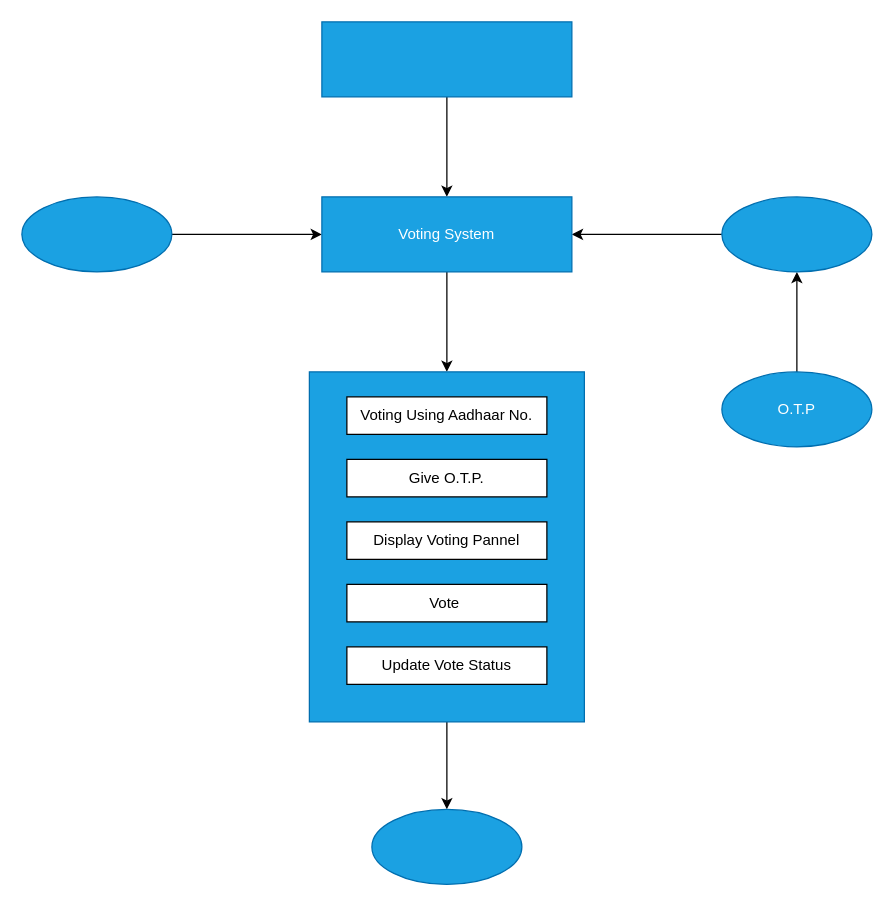
The diagram is 894 pixels wide and 906 high, and some of its shapes have lost their labels. The centre of each missing label's shape, as x and y in pixels:
Aadhaar No.: (796,234)
Admin / Voter: (446,59)
Done: (446,846)
Election ID: (96,234)
